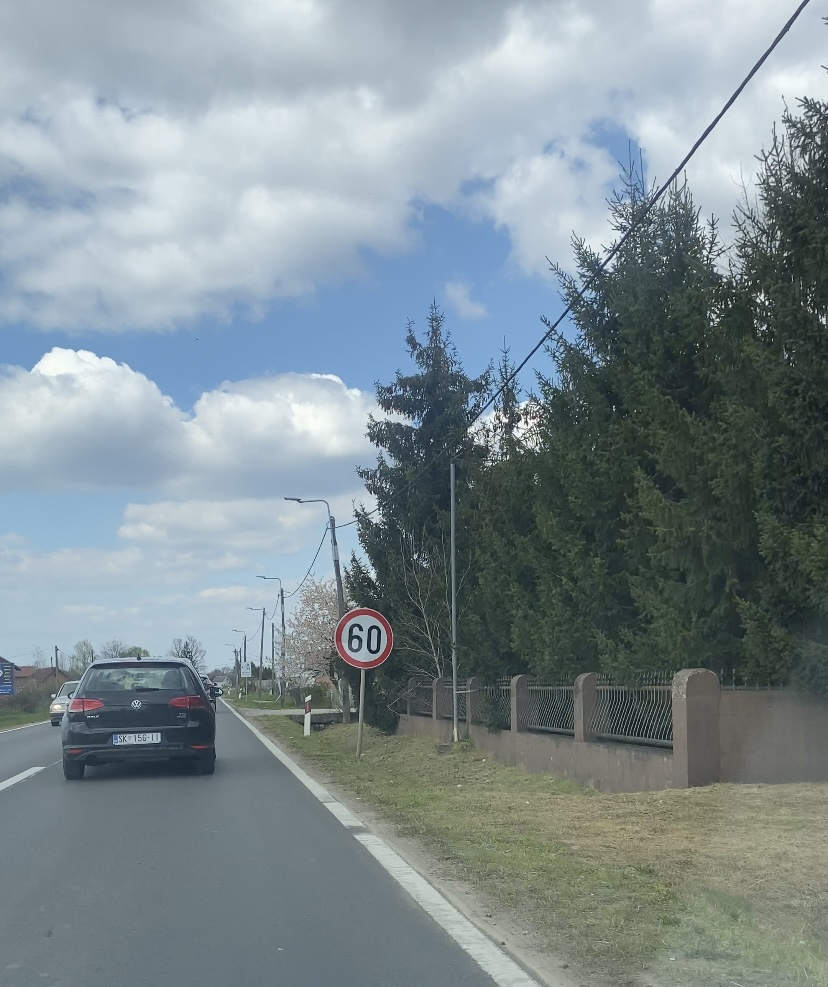Ograničenje brzine 60: (334, 608, 394, 669)
